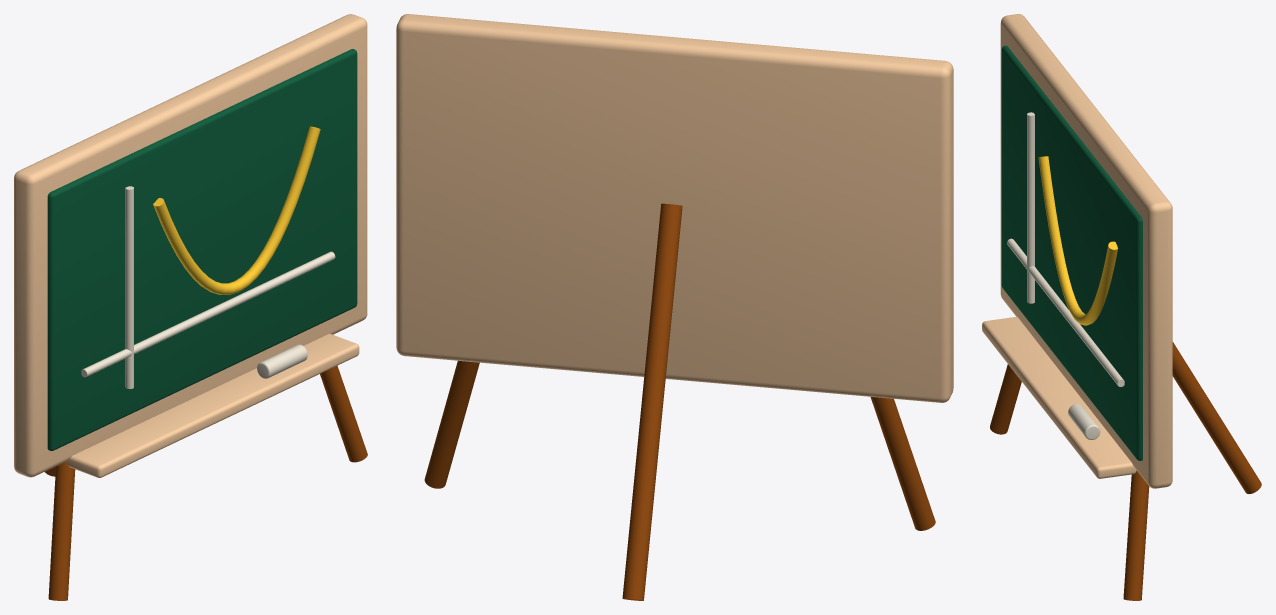
Rendered from onboarding-teacher.glb.
3 views of the same model, side by side, from view 1: azimuth 30°, elevation 25°; view 2: azimuth 150°, elevation 25°; view 3: azimuth 270°, elevation 25° (orthographic). The views are drawn at different scales.
Parts seen in each view (by area): view 1: Cube.001, Cube, Cube.002, tube.002, tube.003, tube, tube.004, tube.001, Cylinder; view 2: Cube, tube.005, tube.003, tube.004; view 3: Cube.001, Cube, Cube.002, tube.005, tube.002, tube.004, tube, tube.001, tube.003, Cylinder.
Boxes of the visible parts, <box> form: Cube.001: <box>47,49,357,450</box>; Cube: <box>14,14,367,477</box>; Cube.002: <box>67,333,359,477</box>; tube.002: <box>153,126,320,294</box>; tube.003: <box>48,461,75,600</box>; tube: <box>81,251,335,377</box>; tube.004: <box>320,365,367,462</box>; tube.001: <box>125,186,133,388</box>; Cylinder: <box>257,344,307,378</box>; Cube: <box>396,14,953,402</box>; tube.005: <box>622,203,682,600</box>; tube.003: <box>870,396,935,530</box>; tube.004: <box>424,361,479,488</box>; Cube.001: <box>1001,45,1142,460</box>; Cube: <box>1000,14,1172,488</box>; Cube.002: <box>982,316,1136,478</box>; tube.005: <box>1172,342,1261,493</box>; tube.002: <box>1038,156,1117,325</box>; tube.004: <box>1123,470,1149,600</box>; tube: <box>1007,238,1124,386</box>; tube.001: <box>1027,112,1034,303</box>; tube.003: <box>990,364,1021,434</box>; Cylinder: <box>1068,404,1100,440</box>.
Size of the model in its own units: 2.49 by 2.42 by 1.51.
